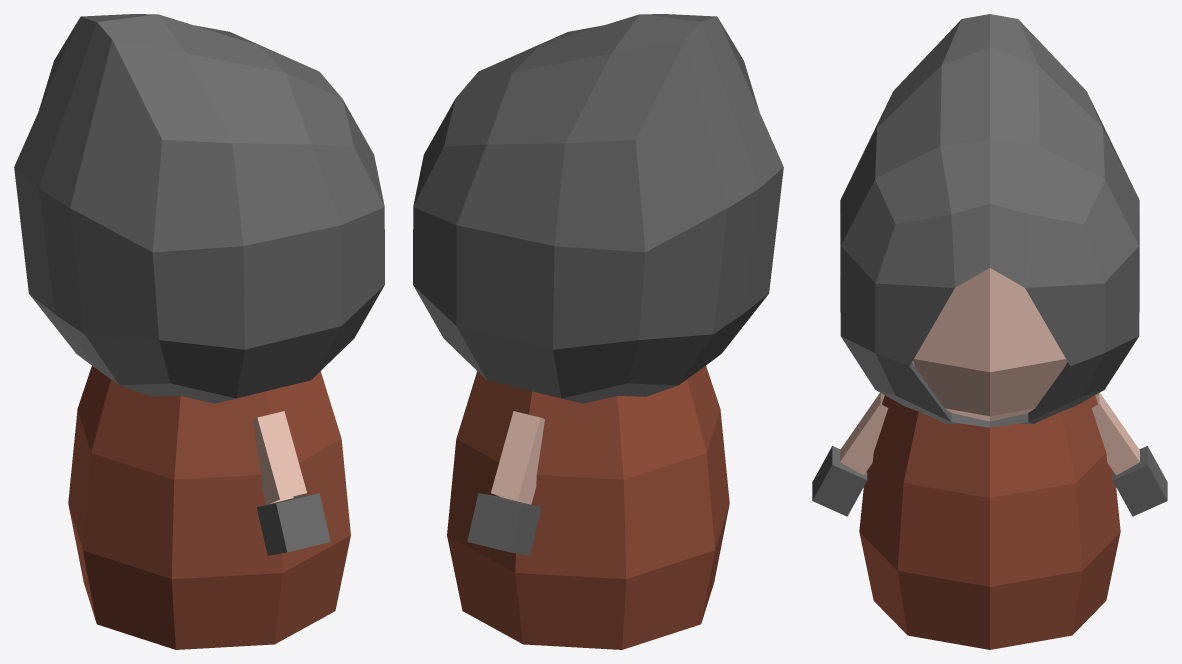
The model's file is Thief_LowPoly.fbx.
The picture shows the model from 3 angles, left to right: view 1: azimuth 30°, elevation 25°; view 2: azimuth 150°, elevation 25°; view 3: azimuth 270°, elevation 25°; orthographic projection. The views are drawn at different scales.
Visible parts, largest first — view 1: Cube.004, Cylinder, Cube.002, Cube.003; view 2: Cube.004, Cylinder, Cube.002, Cube.003; view 3: Cube.004, Cylinder, Sphere, Cube.003, Cube.002.
Part boxes in pixels (x1=…): Cube.004: x1=14, y1=14, x2=384, y2=403; Cylinder: x1=68, y1=366, x2=350, y2=649; Cube.002: x1=253, y1=411, x2=306, y2=504; Cube.003: x1=256, y1=493, x2=330, y2=555; Cube.004: x1=413, y1=14, x2=783, y2=403; Cylinder: x1=447, y1=366, x2=729, y2=649; Cube.002: x1=491, y1=411, x2=544, y2=504; Cube.003: x1=467, y1=493, x2=541, y2=555; Cube.004: x1=840, y1=14, x2=1139, y2=427; Cylinder: x1=859, y1=395, x2=1120, y2=649; Sphere: x1=912, y1=268, x2=1067, y2=421; Cube.003: x1=812, y1=446, x2=1167, y2=516; Cube.002: x1=840, y1=392, x2=1139, y2=475.
Bounding box in the file's own units: 265 × 481 × 288.
